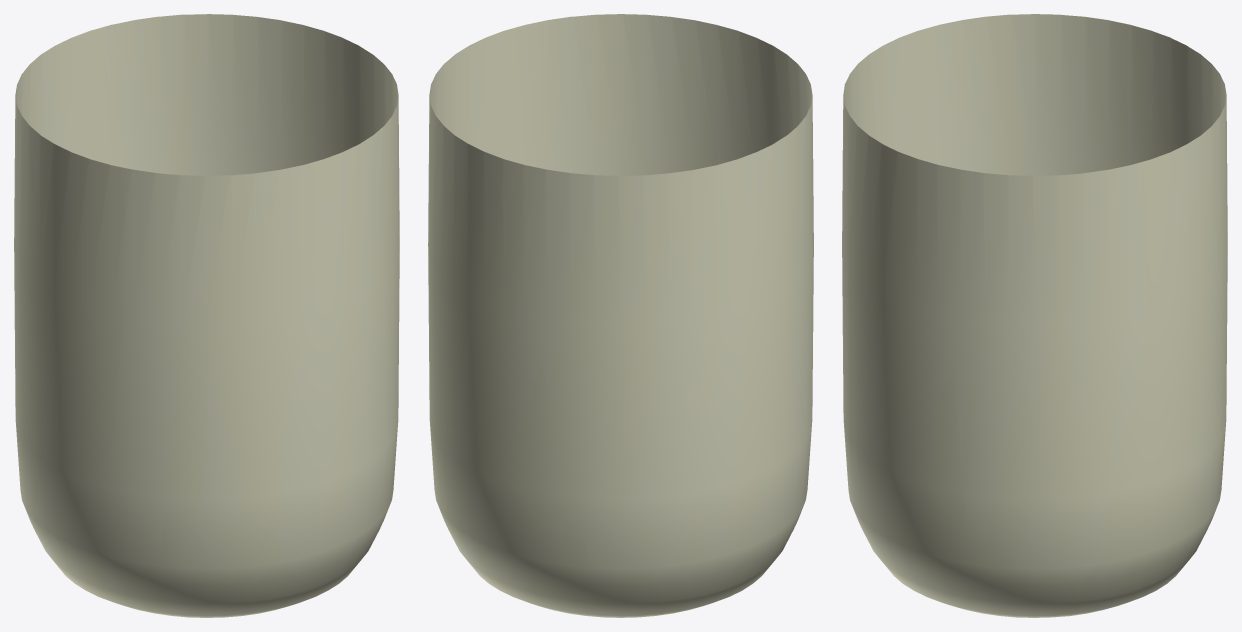
Rendered from original_15.obj.
3 renders of one model, left to right at view 1: azimuth 30°, elevation 25°; view 2: azimuth 150°, elevation 25°; view 3: azimuth 270°, elevation 25°, orthographic.
Visible parts, largest first — view 1: #ID2470; view 2: #ID2470; view 3: #ID2470.
Part boxes in pixels (x1,y1,x2,y2): #ID2470: [14, 14, 399, 617]; #ID2470: [428, 14, 813, 617]; #ID2470: [842, 14, 1227, 617].
Size of the model in its own units: 0.611 by 0.8329 by 0.6109.
